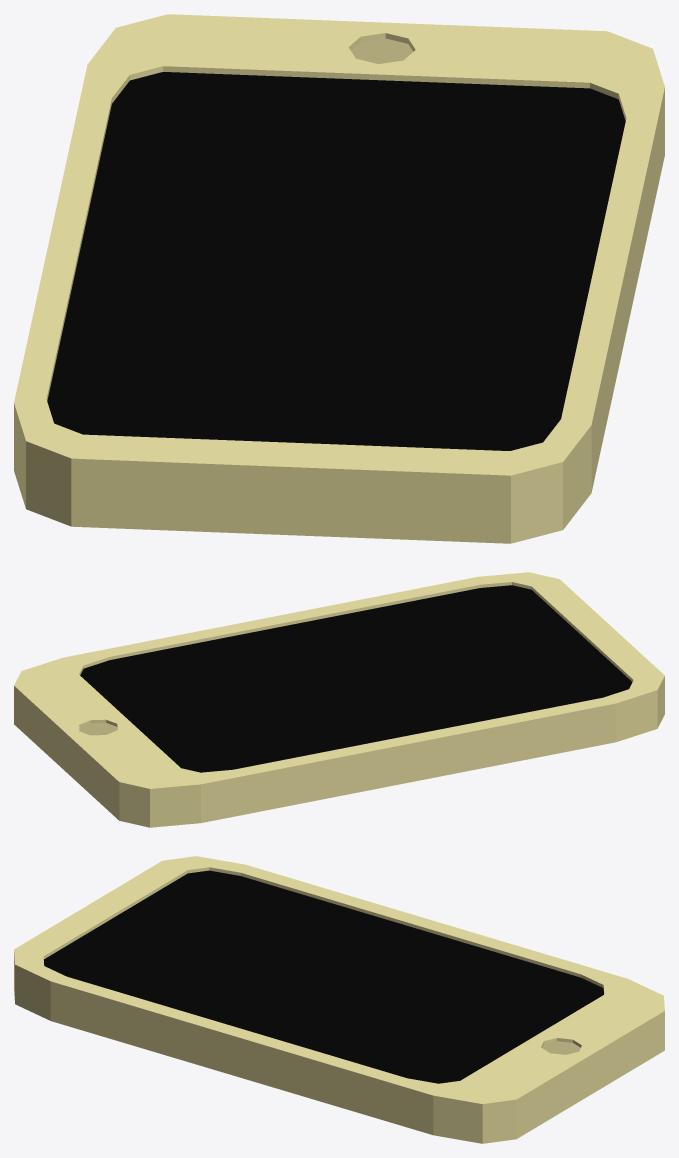
File: phone.fbx
The picture shows the model from 3 angles, top to bottom: view 1: azimuth 30°, elevation 25°; view 2: azimuth 150°, elevation 25°; view 3: azimuth 270°, elevation 25°; orthographic projection. The views are drawn at different scales.
Parts seen in each view (by area): view 1: Cube.003; view 2: Cube.003; view 3: Cube.003.
Boxes of the visible parts, x1,y1,x2,y2 form: Cube.003: (14, 14, 664, 543); Cube.003: (14, 572, 664, 827); Cube.003: (14, 856, 664, 1143).
Bounding box in the file's own units: 191 × 14.24 × 212.
